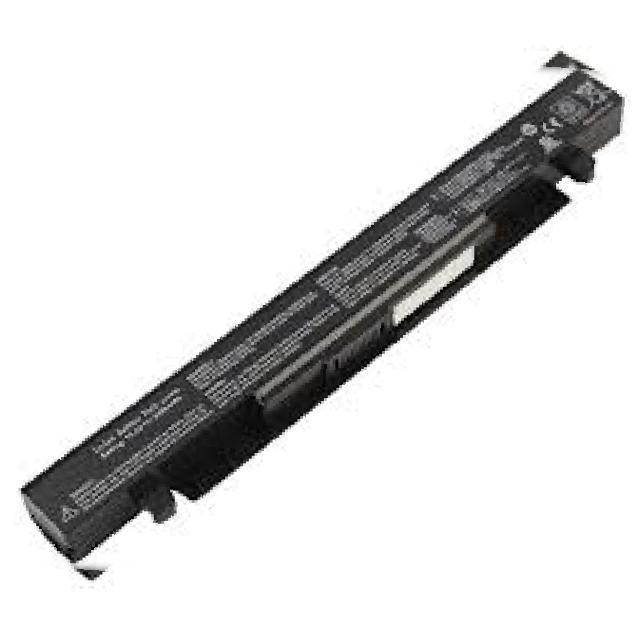Battery: (21, 38, 640, 591)
